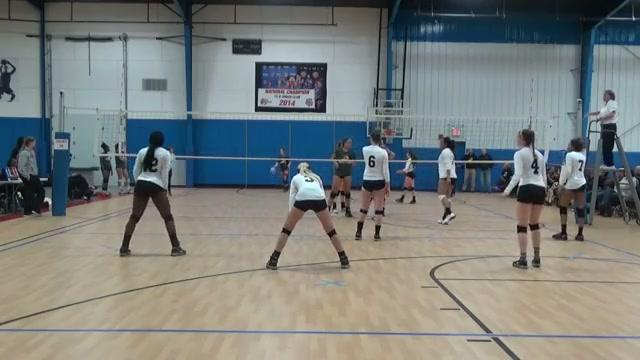ball: (268, 165, 278, 177)
